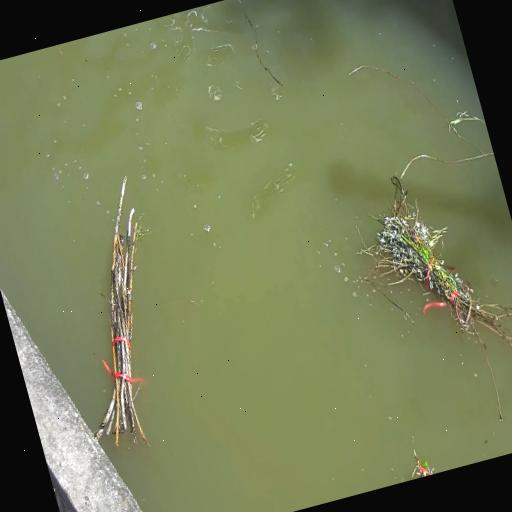twig: (31, 172, 197, 450), (358, 178, 503, 366)
